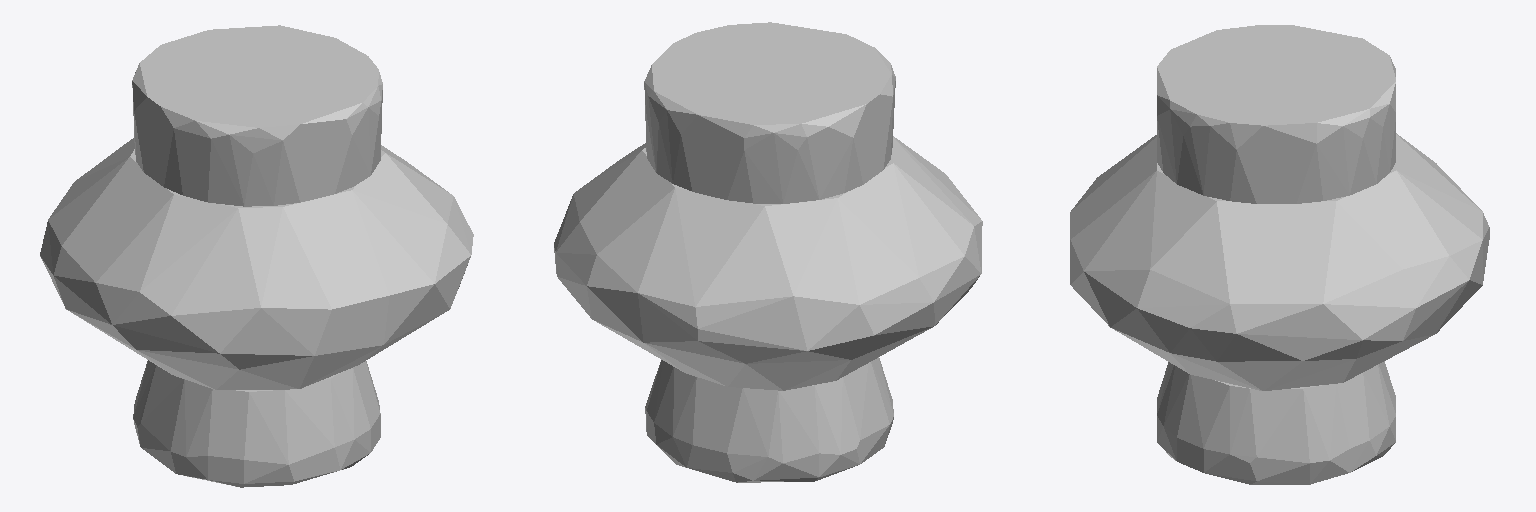
The model's file is Vase_W_Hole.obj.
3 views of the same model, side by side, from view 1: azimuth 30°, elevation 25°; view 2: azimuth 150°, elevation 25°; view 3: azimuth 270°, elevation 25° (orthographic).
Visible parts, largest first — view 1: convex_1, convex_2, convex_0; view 2: convex_1, convex_2, convex_0; view 3: convex_1, convex_2, convex_0.
Boxes of the visible parts, box(x1,y1,x2,y2) form: convex_1: box(40, 138, 473, 389); convex_2: box(132, 25, 382, 206); convex_0: box(133, 360, 380, 487); convex_1: box(554, 136, 982, 390); convex_2: box(644, 22, 895, 203); convex_0: box(645, 357, 893, 482); convex_1: box(1070, 133, 1489, 390); convex_2: box(1157, 25, 1395, 203); convex_0: box(1157, 361, 1395, 484).
Size of the model in its own units: 41.15 by 38.58 by 40.51.